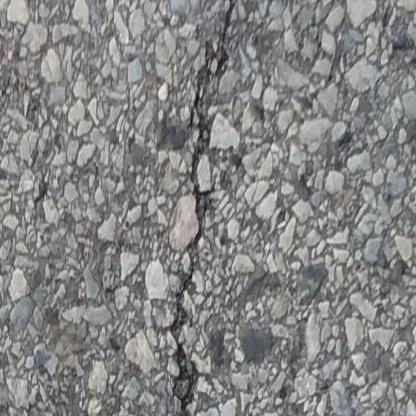Cracks: (190, 0, 255, 220), (167, 223, 206, 416)
